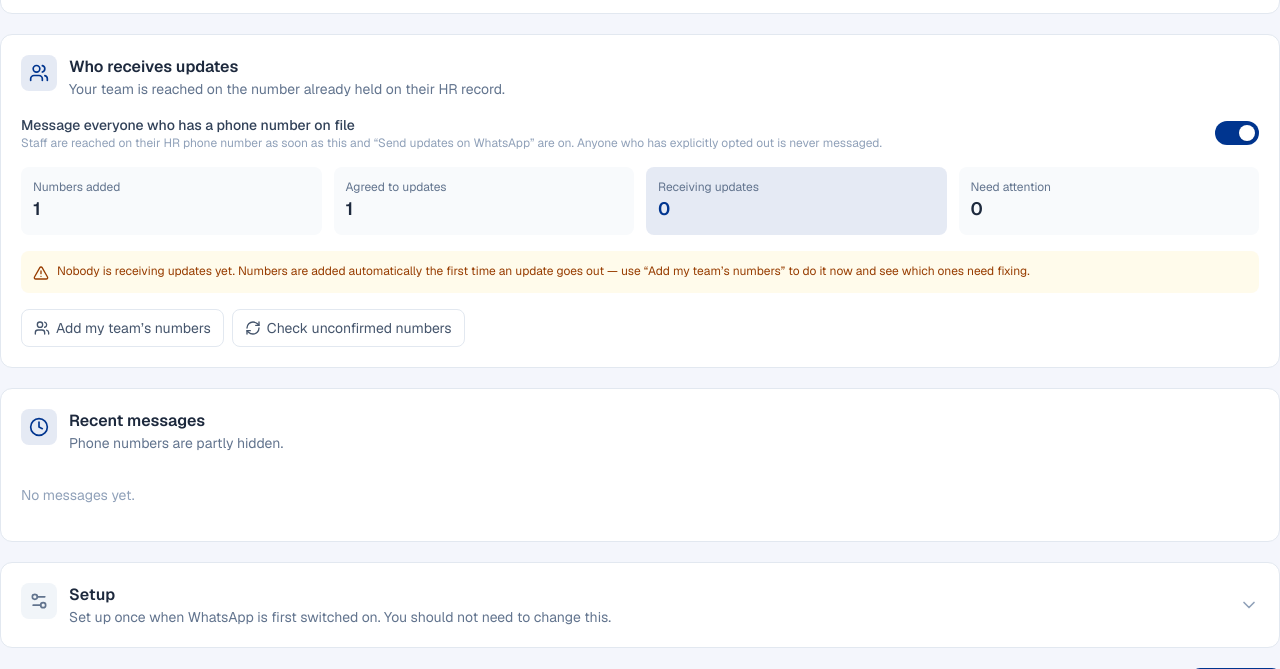
it: WhatsAppSettingsSection — carbon copy › hides the number field when copying is off
This screenshot has width=1280, height=669.
(page scrolled)
Click the button "Setup".
click(39, 601)  # box [1,563,1279,647]
(page scrolled)
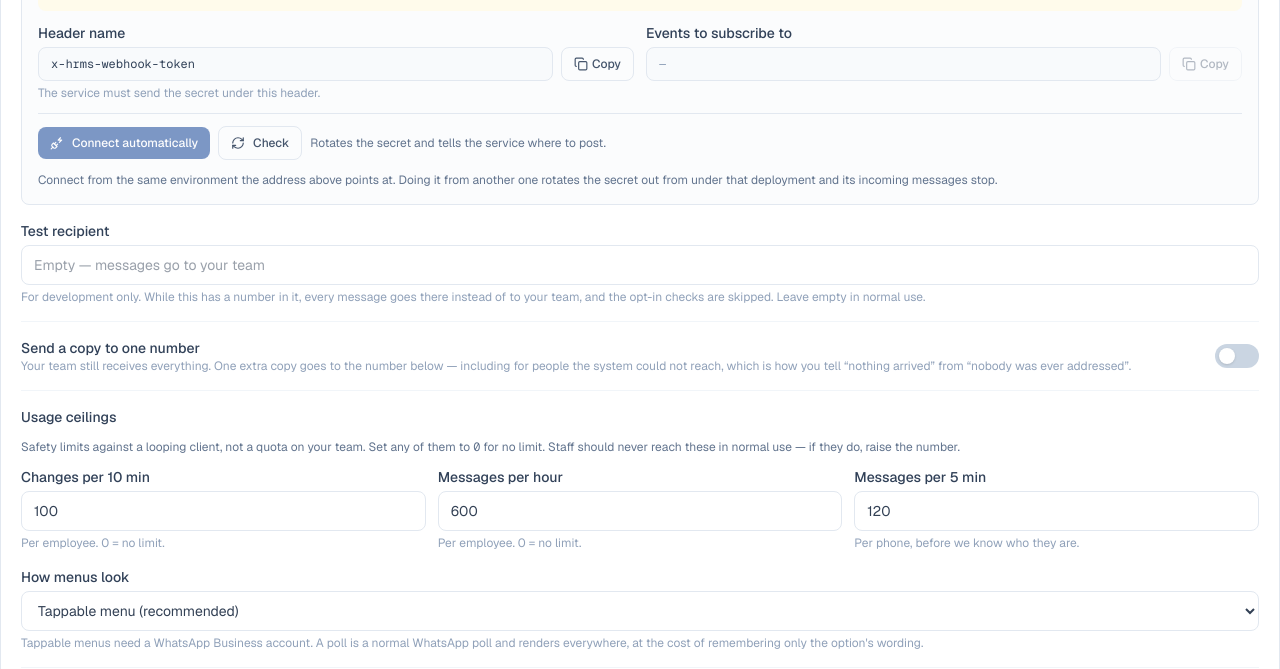
Now the text "Send a copy to one number" is shown, box [21,339,200,357]
